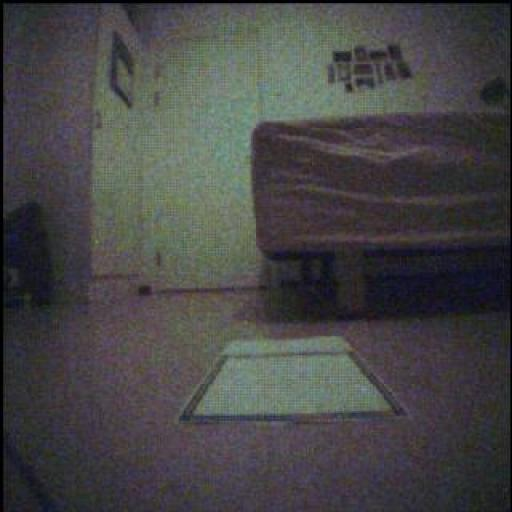pad: (180, 339, 404, 424)
